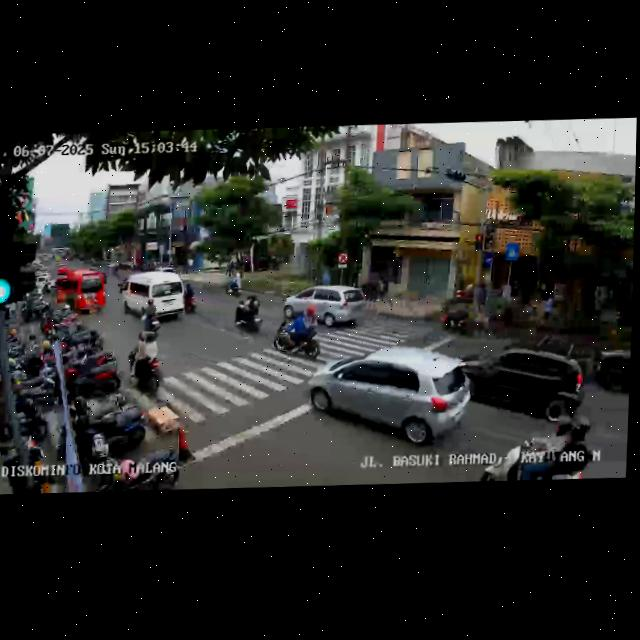car: (306, 341, 468, 454), (459, 341, 588, 431), (283, 282, 364, 333), (119, 269, 190, 322), (50, 267, 105, 317), (590, 344, 629, 399)
motorcycle: (476, 400, 592, 483), (439, 279, 494, 340), (271, 305, 324, 364), (127, 332, 160, 395), (231, 293, 264, 338), (138, 299, 162, 343), (182, 283, 198, 315), (227, 271, 241, 297)
